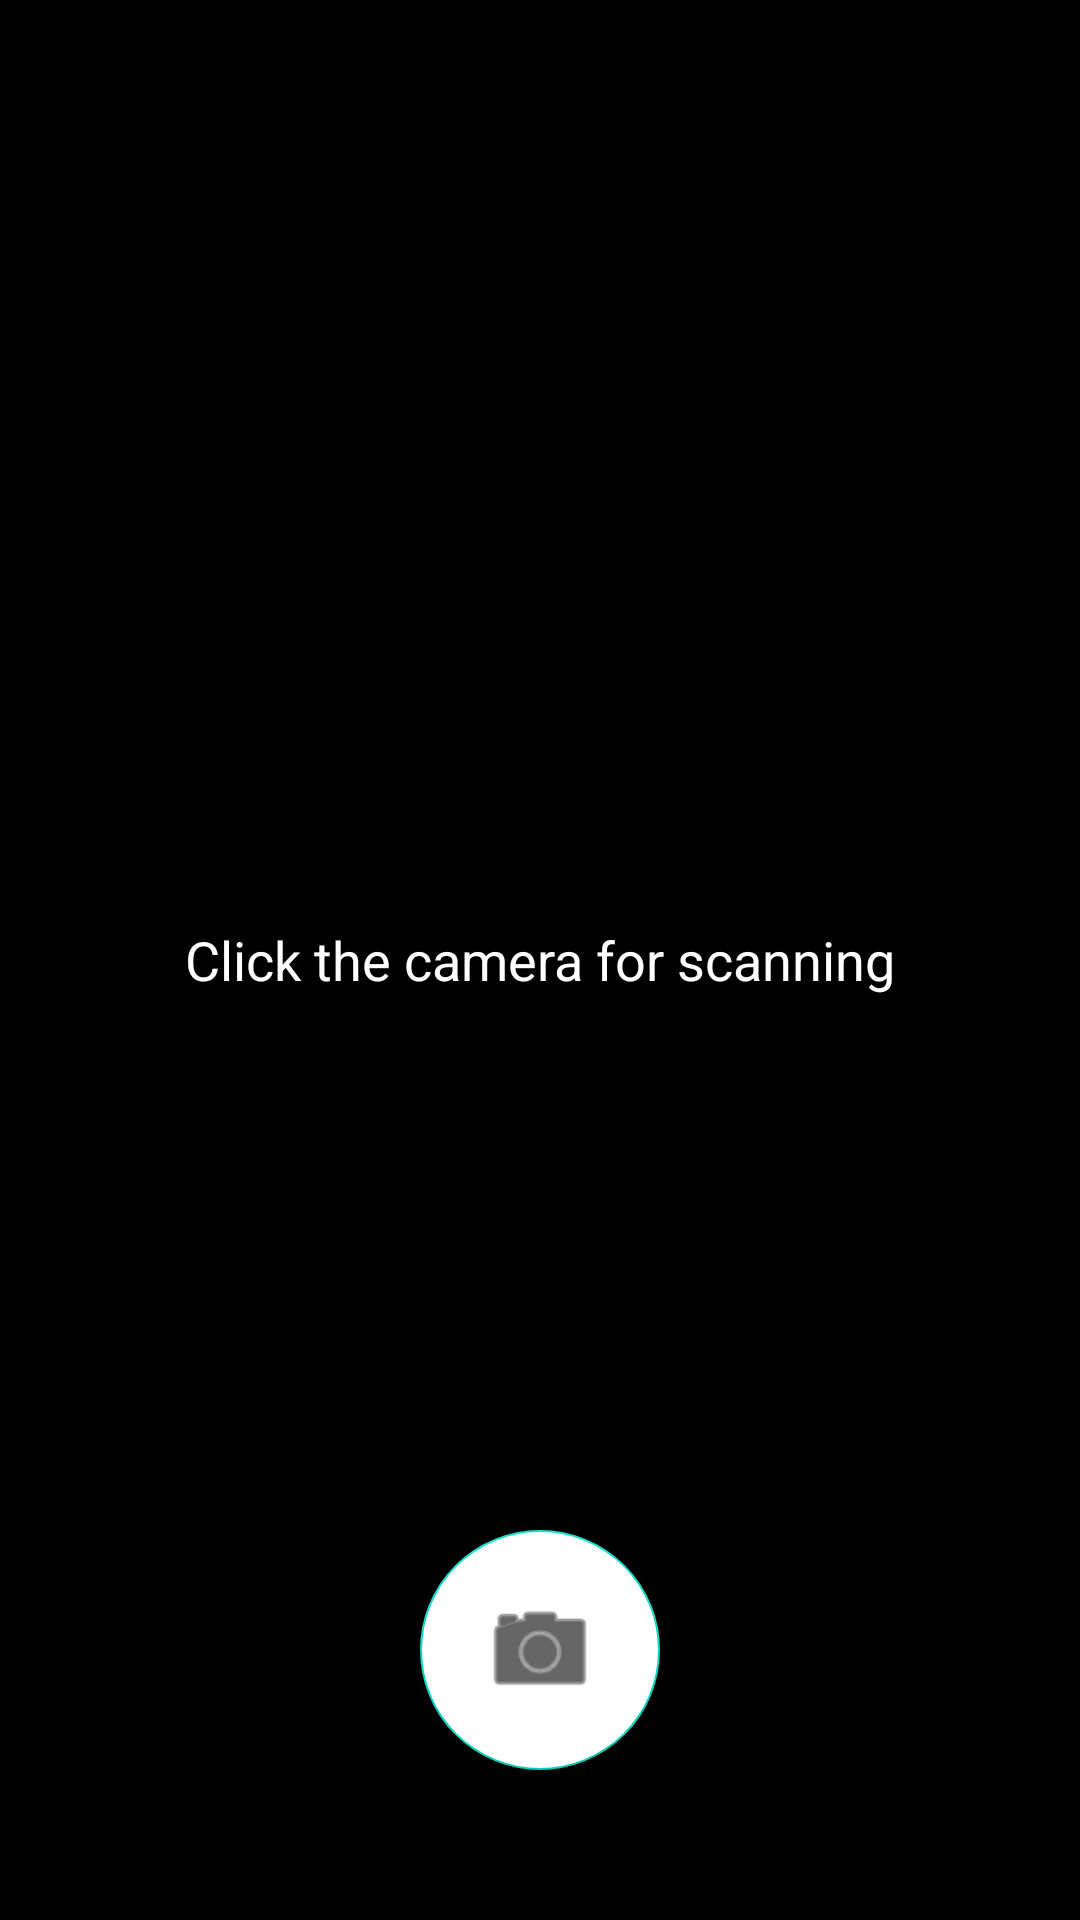

Point at icon controls on the screen. Image size 1080*1920, points as (x,y).
Tomar Foto: (540,1650)
